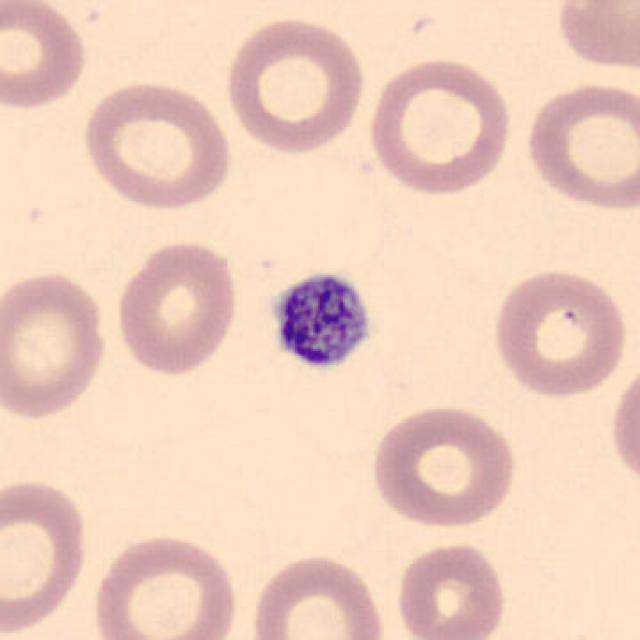Platelets: (265, 264, 379, 374)
RBC: (362, 53, 516, 197), (220, 12, 370, 157), (78, 76, 235, 212), (366, 400, 521, 531), (489, 264, 631, 402), (110, 236, 242, 379), (0, 266, 112, 423), (87, 529, 244, 640), (521, 78, 638, 214), (0, 472, 92, 638), (246, 550, 390, 640), (391, 539, 510, 640), (0, 0, 91, 113), (551, 0, 640, 76), (606, 356, 640, 496)
